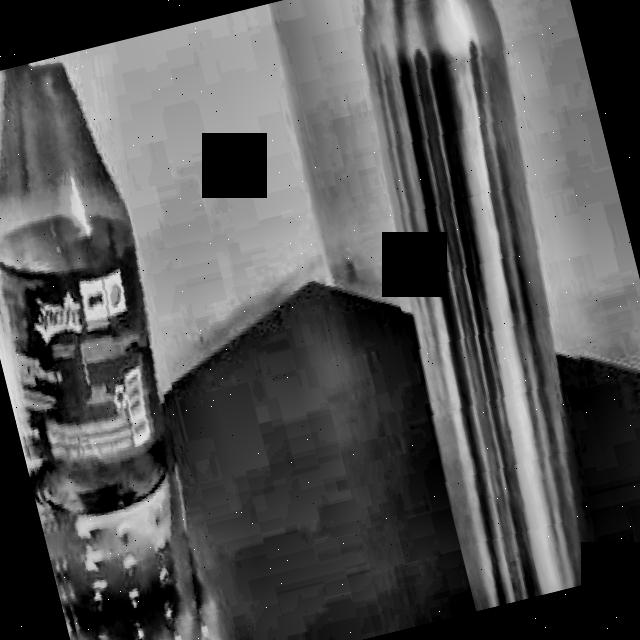bottle: (364, 0, 601, 611), (0, 60, 195, 640)
